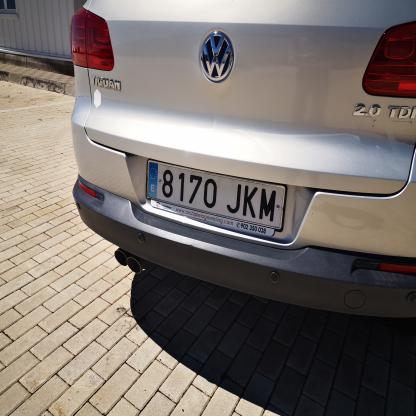patente: (146, 158, 285, 233)
